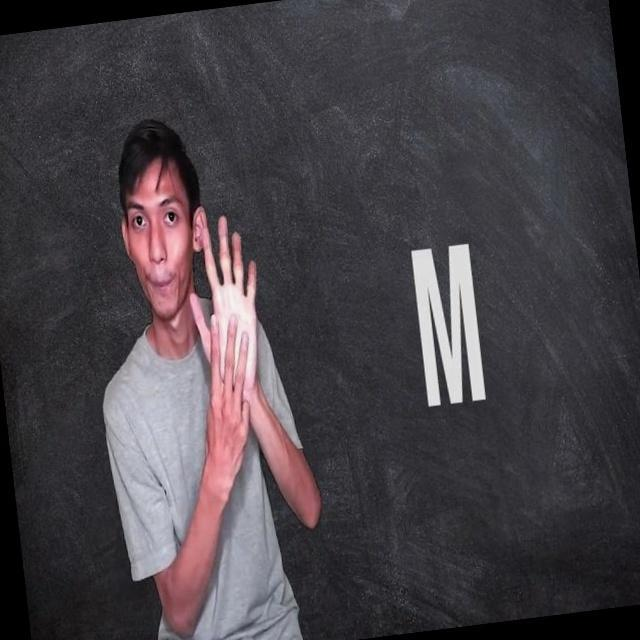M: (182, 206, 278, 439)
